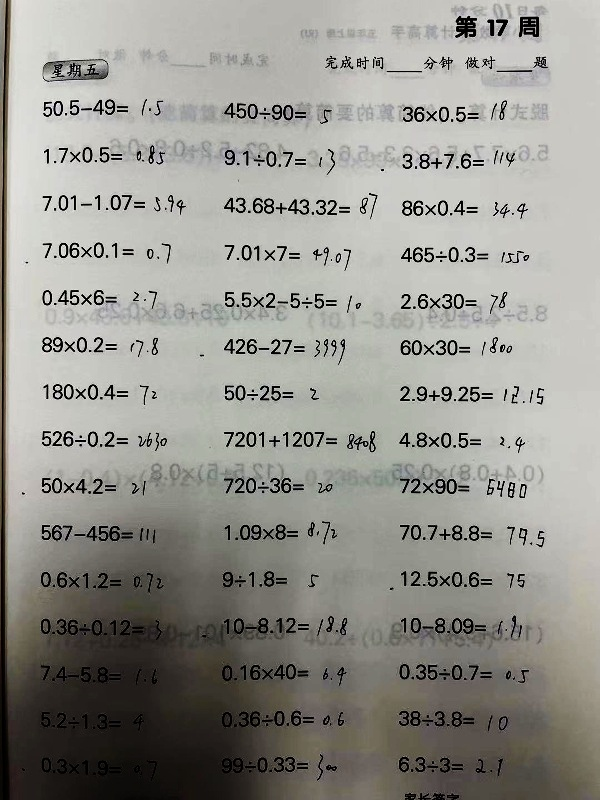equation: (396, 464, 530, 506), (220, 189, 381, 222), (396, 520, 549, 553), (39, 746, 159, 786), (218, 747, 338, 787), (220, 145, 339, 185), (221, 699, 348, 736), (220, 427, 379, 456), (217, 653, 350, 687), (220, 608, 353, 642), (395, 563, 532, 596), (395, 606, 532, 639), (395, 653, 532, 686), (394, 701, 516, 737), (38, 563, 164, 597), (39, 610, 165, 644), (36, 656, 162, 690), (219, 334, 348, 367), (34, 702, 150, 738), (389, 748, 506, 783), (39, 517, 159, 551), (220, 516, 339, 550), (221, 467, 340, 501), (220, 240, 353, 270), (41, 425, 168, 456), (395, 379, 546, 405), (38, 189, 188, 215), (215, 563, 327, 596), (38, 238, 173, 265), (219, 287, 363, 312), (395, 428, 525, 455), (38, 140, 167, 167), (36, 331, 160, 359), (220, 377, 327, 409), (396, 287, 510, 317), (396, 241, 532, 266), (38, 379, 159, 406), (38, 94, 165, 119), (397, 96, 510, 124), (38, 285, 158, 311), (397, 196, 527, 220), (36, 473, 149, 500), (395, 333, 515, 358), (397, 147, 517, 172), (216, 98, 334, 123)
